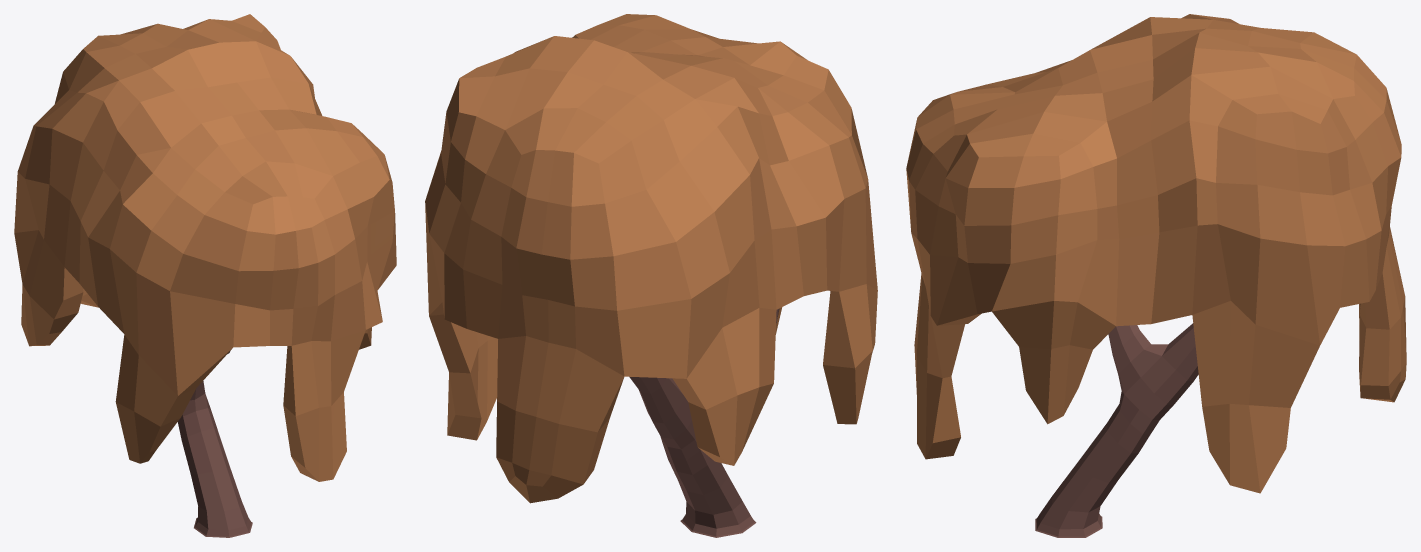
The model's file is Willow_Autumn_4.glb.
3 views of the same model, side by side, from view 1: azimuth 30°, elevation 25°; view 2: azimuth 150°, elevation 25°; view 3: azimuth 270°, elevation 25° (orthographic). The views are drawn at different scales.
Parts seen in each view (by area): view 1: Willow_Autumn_4; view 2: Willow_Autumn_4; view 3: Willow_Autumn_4.
Part boxes in pixels (x1,y1,x2,y2): Willow_Autumn_4: (14, 14, 396, 537); Willow_Autumn_4: (425, 14, 877, 537); Willow_Autumn_4: (906, 14, 1406, 537).
Size of the model in its own units: 2.19 by 3.39 by 3.04.
